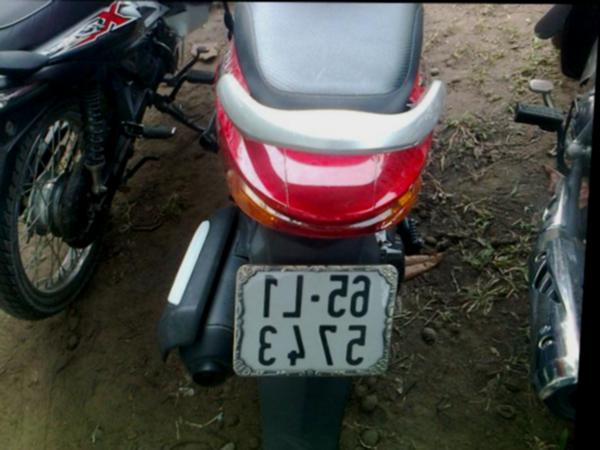License_Plate: (234, 266, 396, 376)
